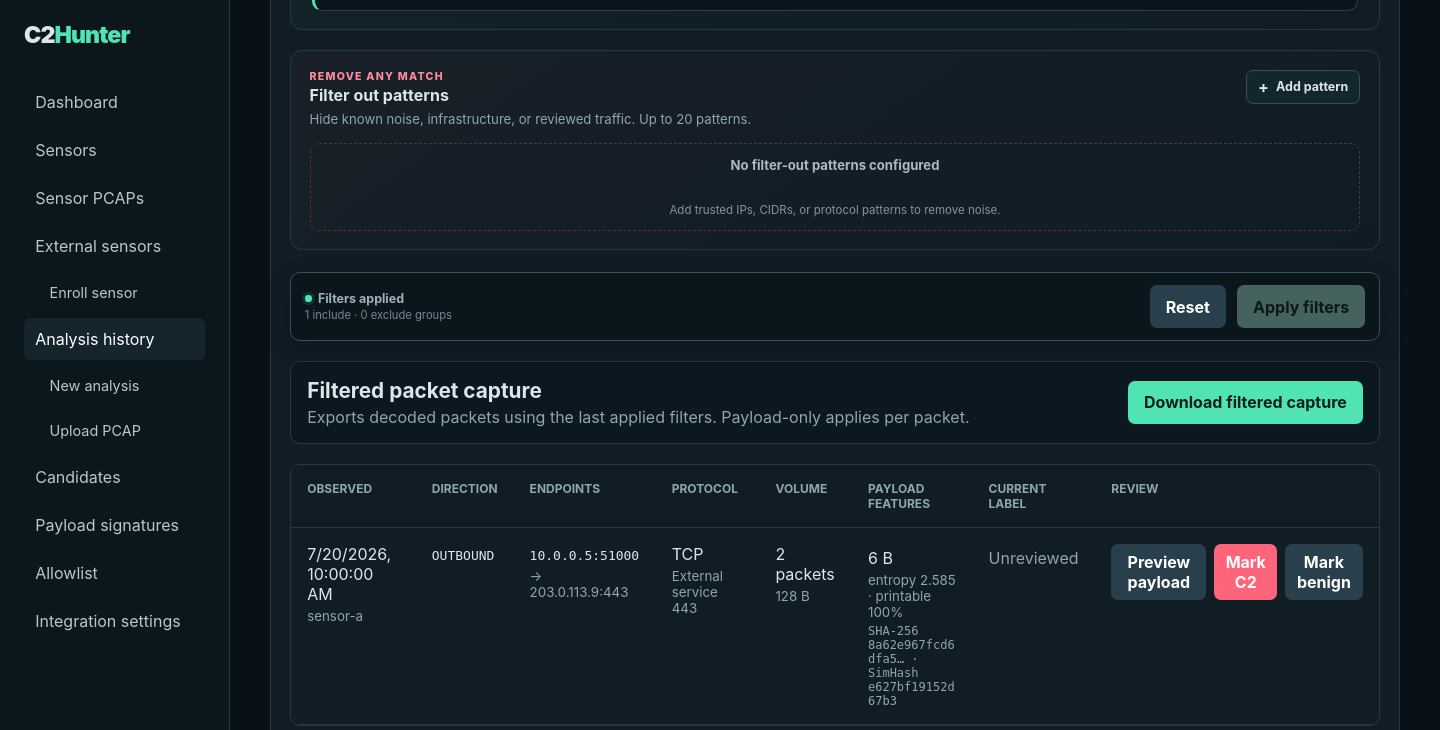
Test: C2Hunter UI › cancels an acknowledged active export exactly once when the component unmounts
This screenshot has width=1440, height=730.
(page scrolled)
Expected: the table named "Analysis flows" is shown, [291, 465, 1379, 725]
Click the button "Download filtered capture" at x=1245, y=402, box [1128, 381, 1363, 424]
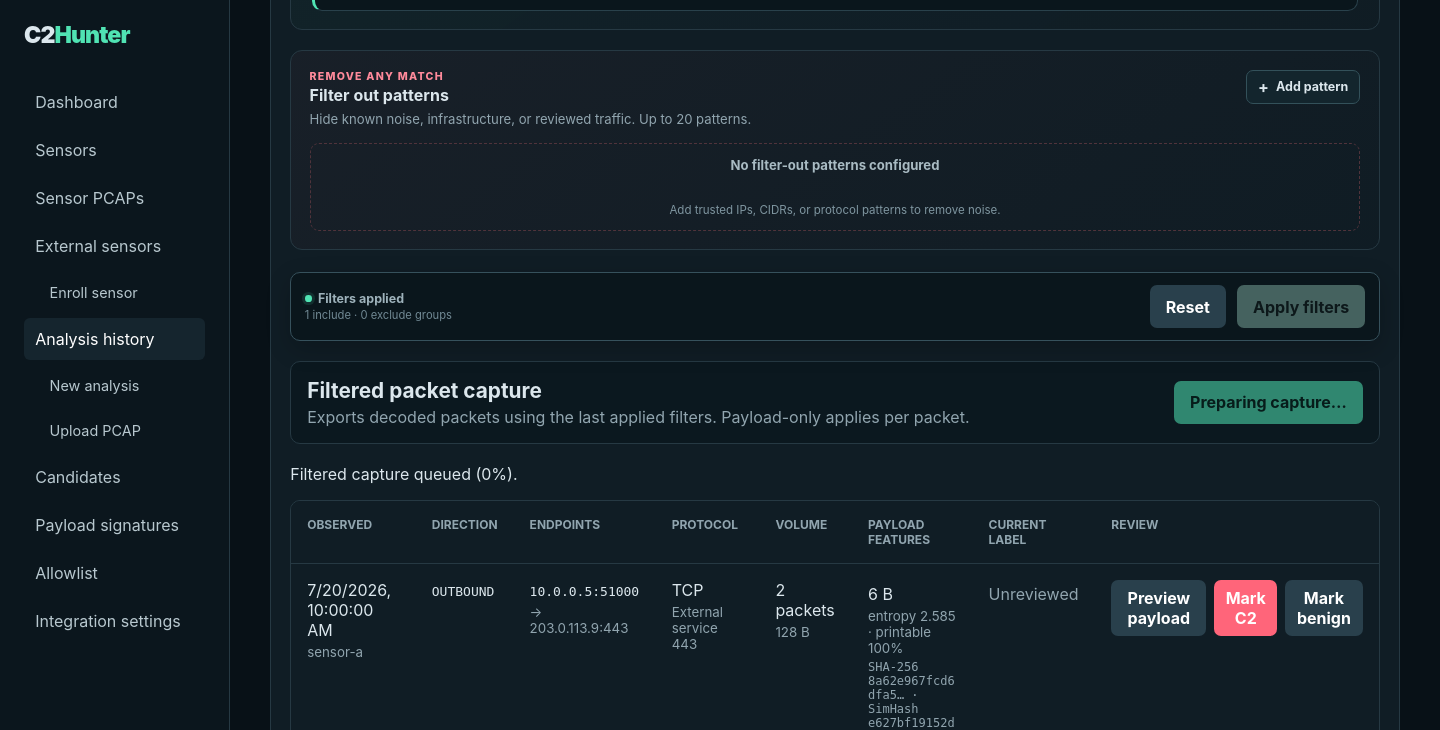
Expected: the message shows "Filtered capture queued", [290, 464, 518, 484]
